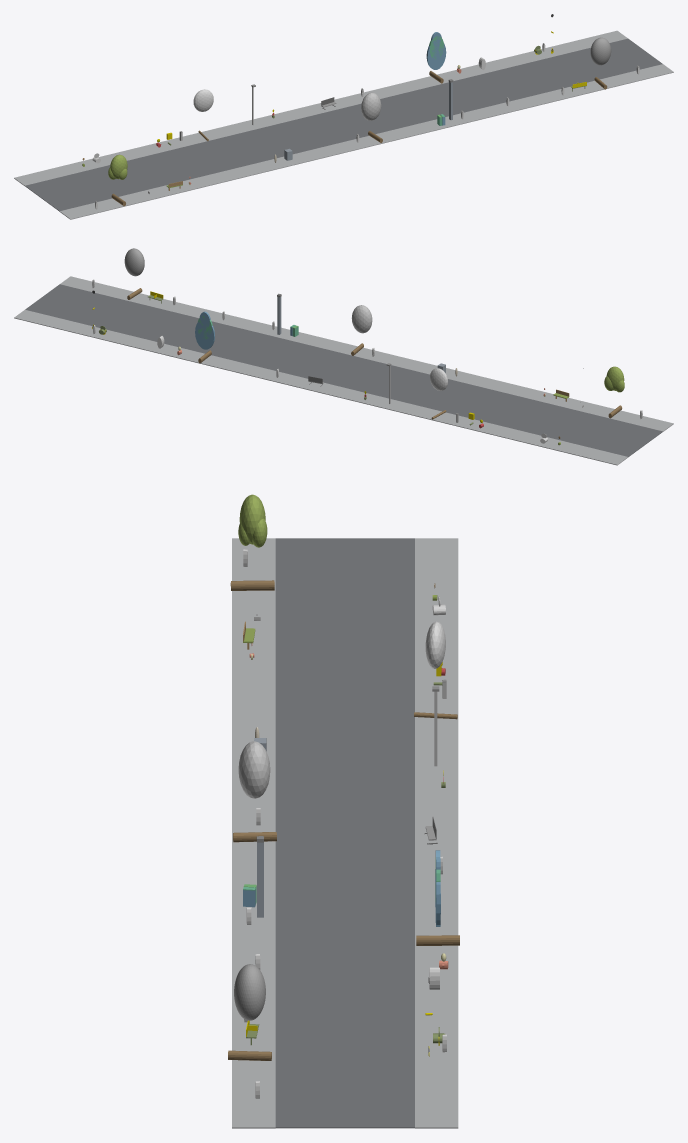
3 renders of one model, top to bottom at view 1: azimuth 30°, elevation 25°; view 2: azimuth 150°, elevation 25°; view 3: azimuth 270°, elevation 25°, orthographic. The views are drawn at different scales.
Parts seen in each view (by area): view 1: road_slab, sidewalk_left, sidewalk_right, inst_0015, inst_0016, inst_0014, inst_0012, inst_0013; view 2: road_slab, sidewalk_right, sidewalk_left, inst_0015, inst_0014, inst_0016, inst_0012, inst_0013; view 3: road_slab, sidewalk_right, sidewalk_left, inst_0016, inst_0014, inst_0012, inst_0013, inst_0015.
Boxes of the visible parts, x1,y1,x2,y2 form: road_slab: (25, 38, 662, 211); sidewalk_left: (59, 64, 673, 219); sidewalk_right: (14, 30, 627, 185); inst_0015: (426, 32, 446, 83); inst_0016: (590, 37, 611, 89); inst_0014: (361, 92, 382, 142); inst_0012: (108, 154, 127, 206); inst_0013: (193, 89, 213, 141); road_slab: (25, 284, 662, 456); sidewalk_right: (14, 310, 628, 465); sidewalk_left: (60, 276, 673, 431); inst_0015: (195, 311, 214, 363); inst_0014: (351, 305, 372, 355); inst_0016: (124, 248, 144, 299); inst_0012: (604, 366, 624, 418); inst_0013: (430, 368, 447, 419); road_slab: (275, 538, 414, 1128); sidewalk_right: (415, 538, 458, 1128); sidewalk_left: (232, 538, 275, 1128); inst_0016: (228, 964, 271, 1060); inst_0014: (233, 741, 276, 842); inst_0012: (230, 494, 274, 590); inst_0013: (414, 621, 457, 719); inst_0015: (416, 850, 459, 945).
Size of the model in its own units: 80 by 6.08 by 13.32.
